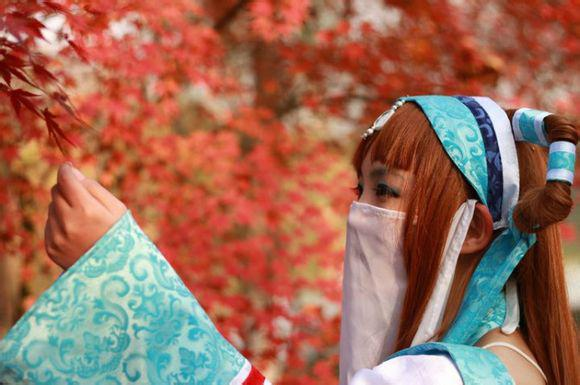OK: (345, 149, 477, 281)
